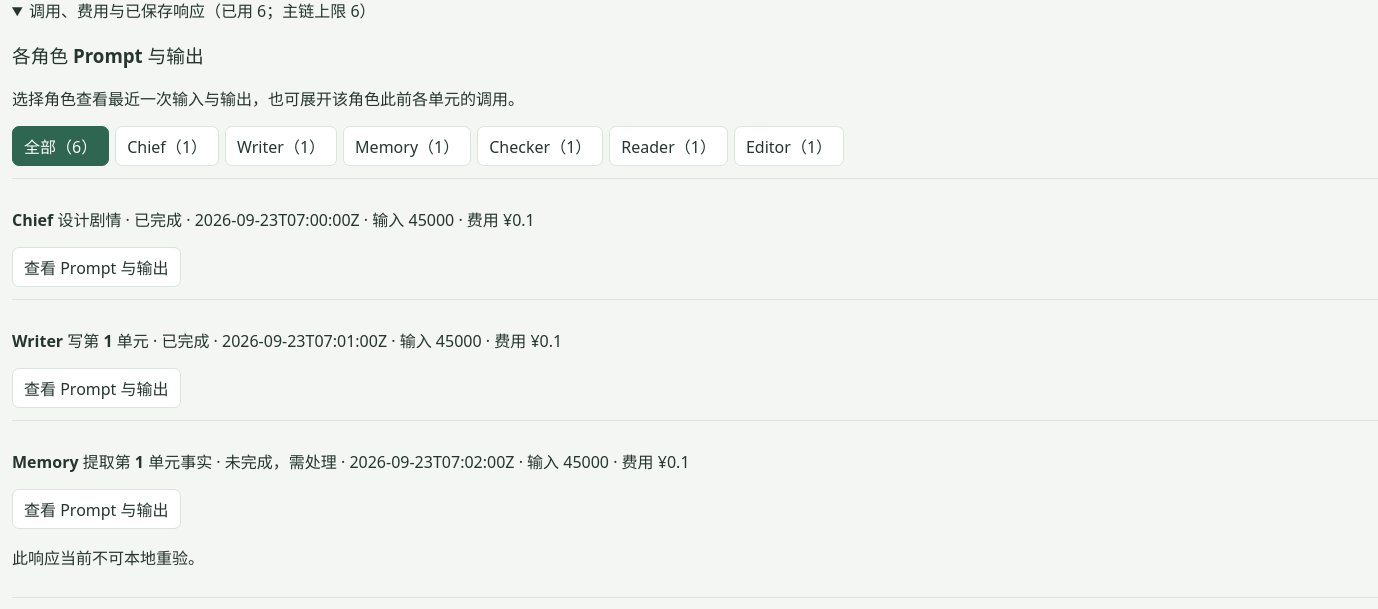
Scenario: original agent call records › shows the actual input and output together and can copy either without writes
Step 1. Click the button "查看 Prompt 与输出" below "Writer 写第 1 单元" → (96, 388), box [12, 368, 180, 408]
(page scrolled)
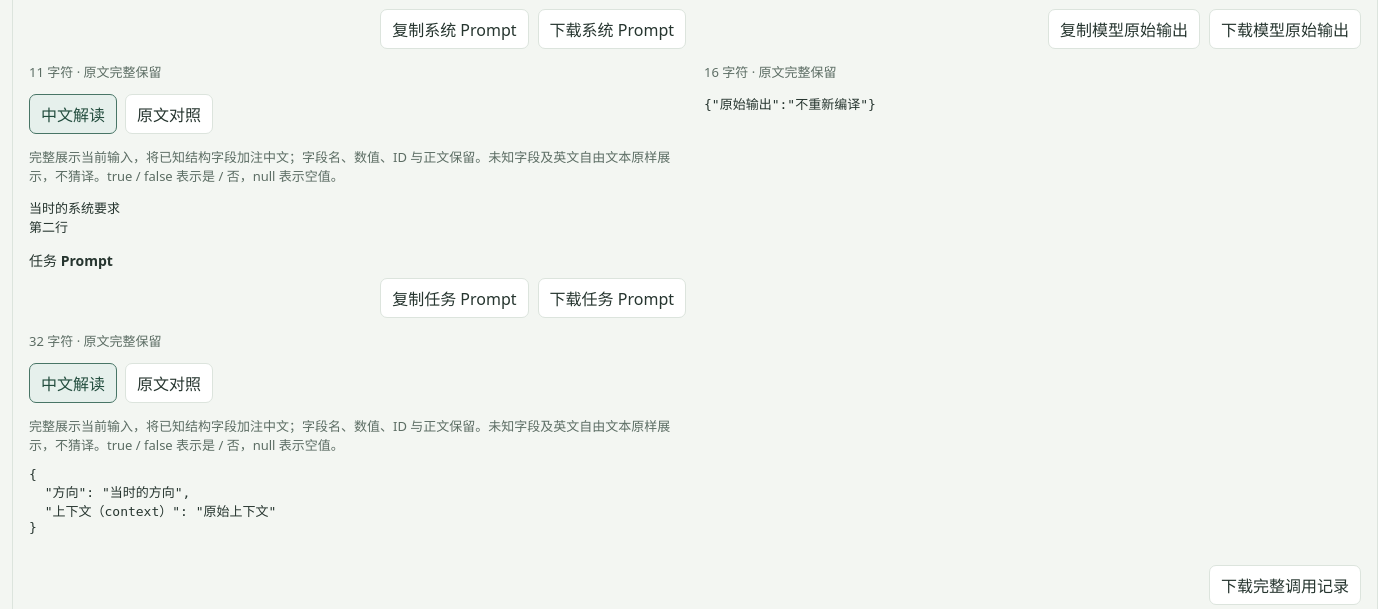
Step 2. Click the button "原文对照" below "32" → (169, 383), box [125, 363, 213, 403]
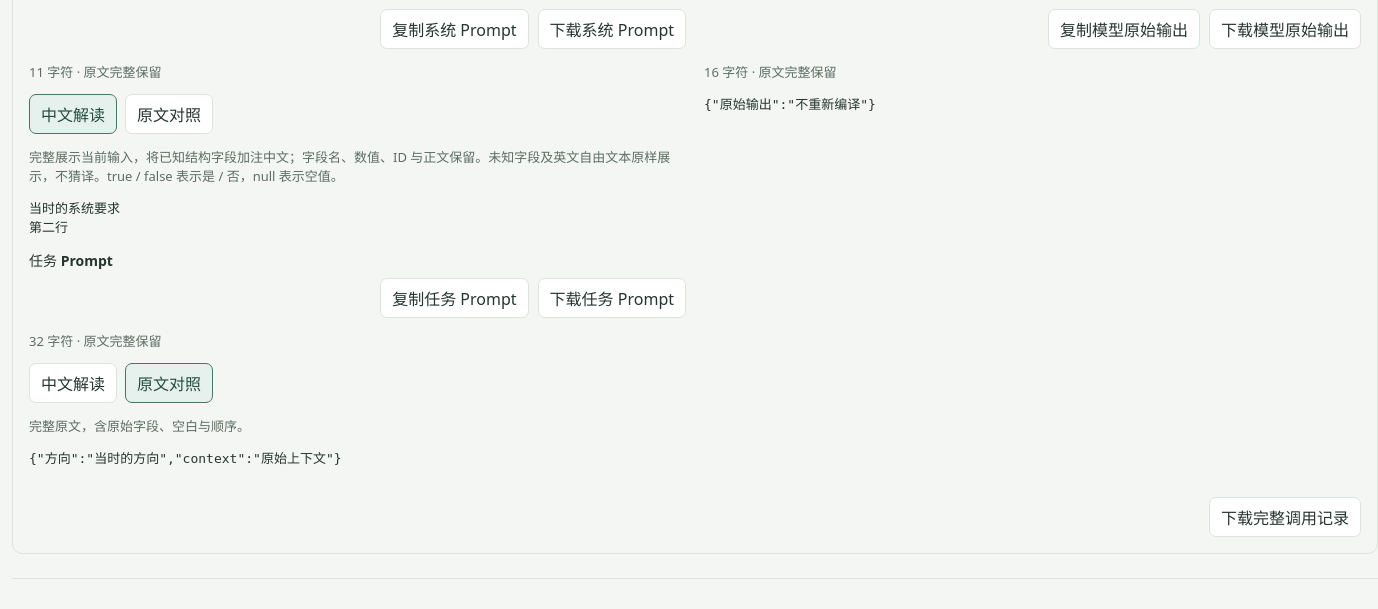
Expected: the text named "模型原始输出" reads "{\"原始输出\":\"不重新编译\"}", [704, 97, 876, 112]
Expected: the text named "任务 Prompt" reads "{\"方向\":\"当时的方向\",\"context\":\"原始上下文\"}", [29, 451, 342, 466]
Step 3. Click the button "复制任务 Prompt" → (454, 298), box [380, 278, 529, 318]
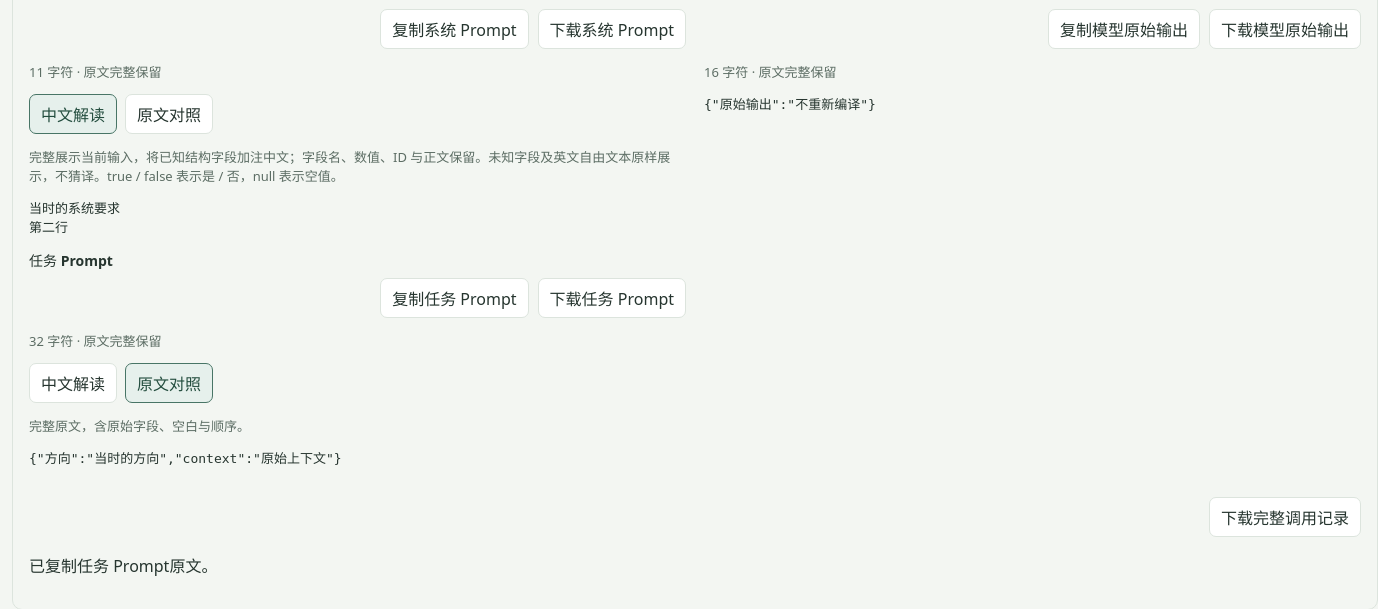
Expected: the text "已复制任务 Prompt原文。" is shown, [29, 555, 217, 577]
Step 4. Click the button "复制模型原始输出" → (1124, 29), box [1048, 9, 1200, 49]
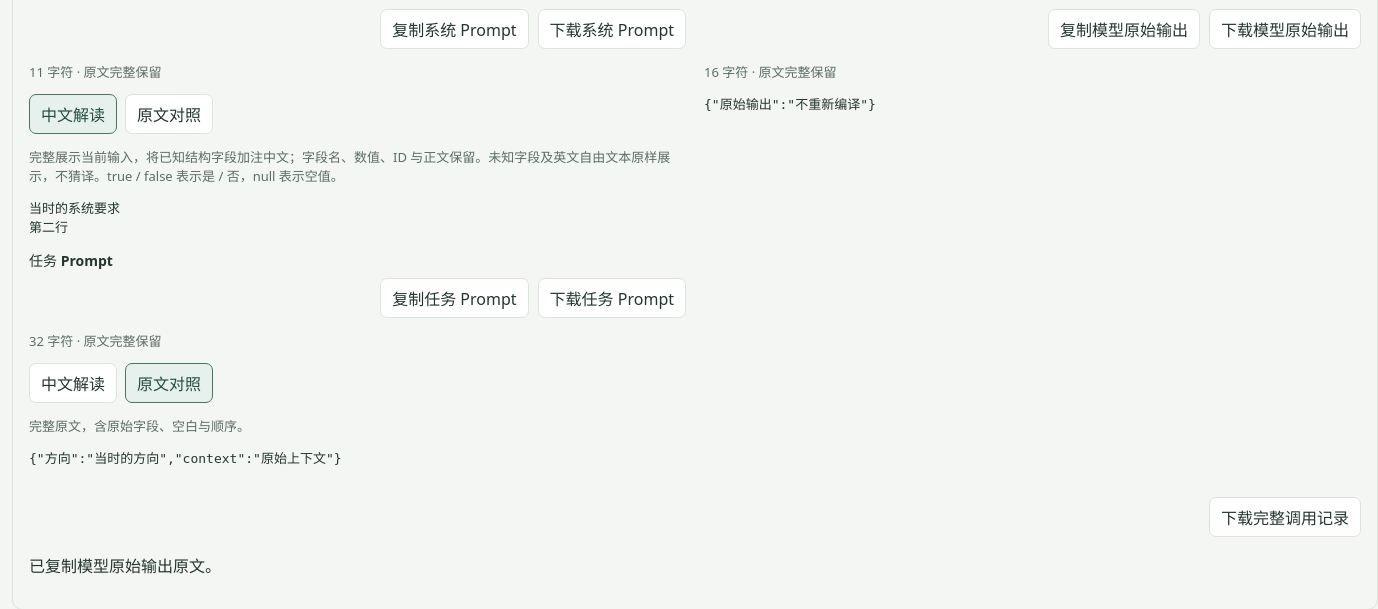
Expected: the text "已复制模型原始输出原文。" is shown, [29, 555, 221, 577]
